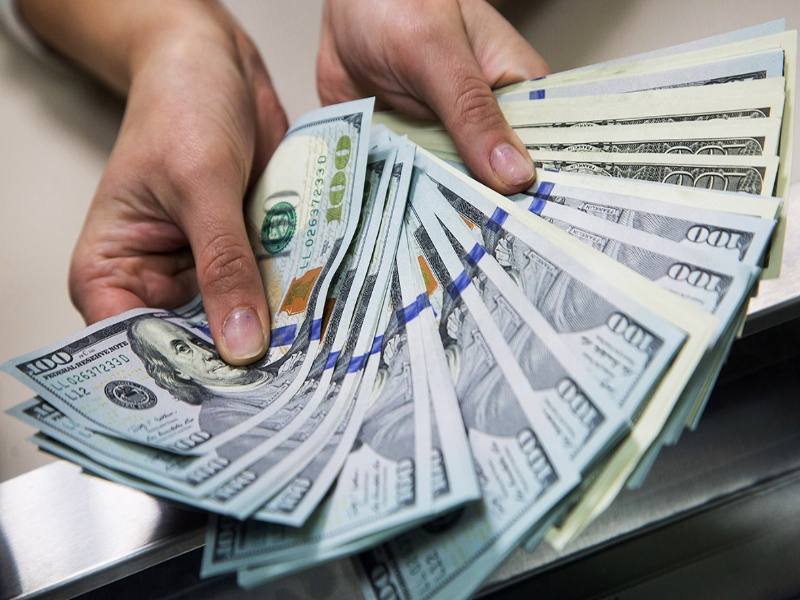cash: (1, 21, 800, 600)
